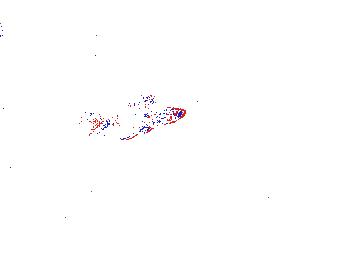redtail glassfish: (90, 105, 188, 141), (73, 94, 156, 131)
